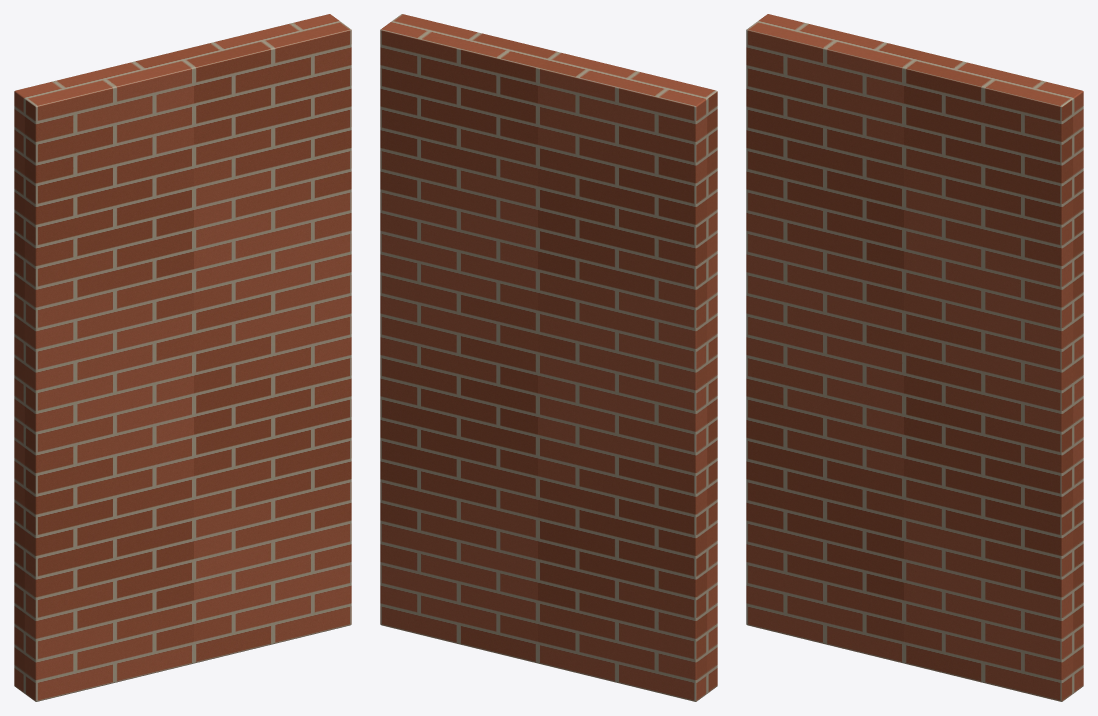
The model's file is brick-panel-v1.glb.
The picture shows the model from 3 angles, left to right: view 1: azimuth 30°, elevation 25°; view 2: azimuth 150°, elevation 25°; view 3: azimuth 330°, elevation 25°; orthographic projection.
Parts seen in each view (by area): view 1: Running bond brick pier; view 2: Running bond brick pier; view 3: Running bond brick pier.
Part boxes in pixels (x1,y1,x2,y2): Running bond brick pier: (14, 14, 351, 701); Running bond brick pier: (380, 14, 717, 701); Running bond brick pier: (746, 14, 1083, 701).
Size of the model in its own units: 2 by 3.6 by 0.24.
Materials: 1 (1 with a texture image).
